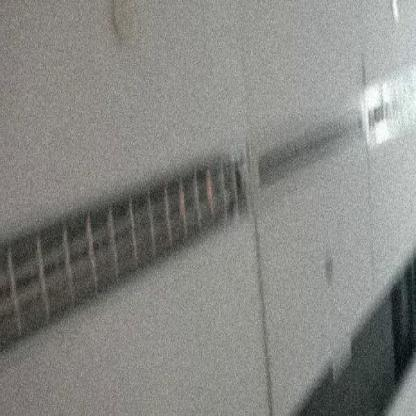light_off: (2, 131, 252, 362)
